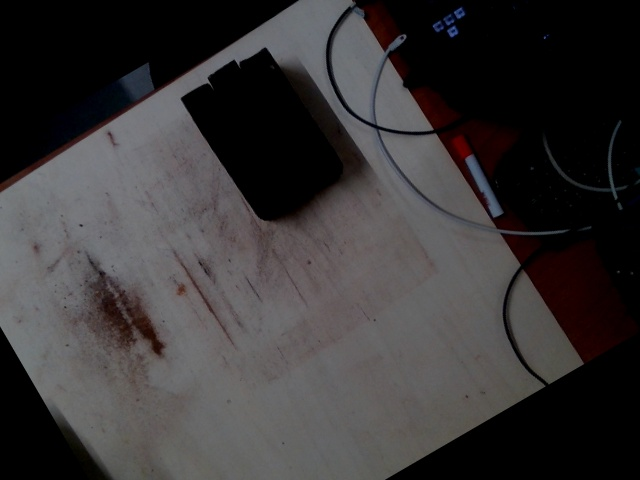brick-side: (238, 45, 342, 180), (179, 81, 283, 216), (207, 61, 311, 196)
